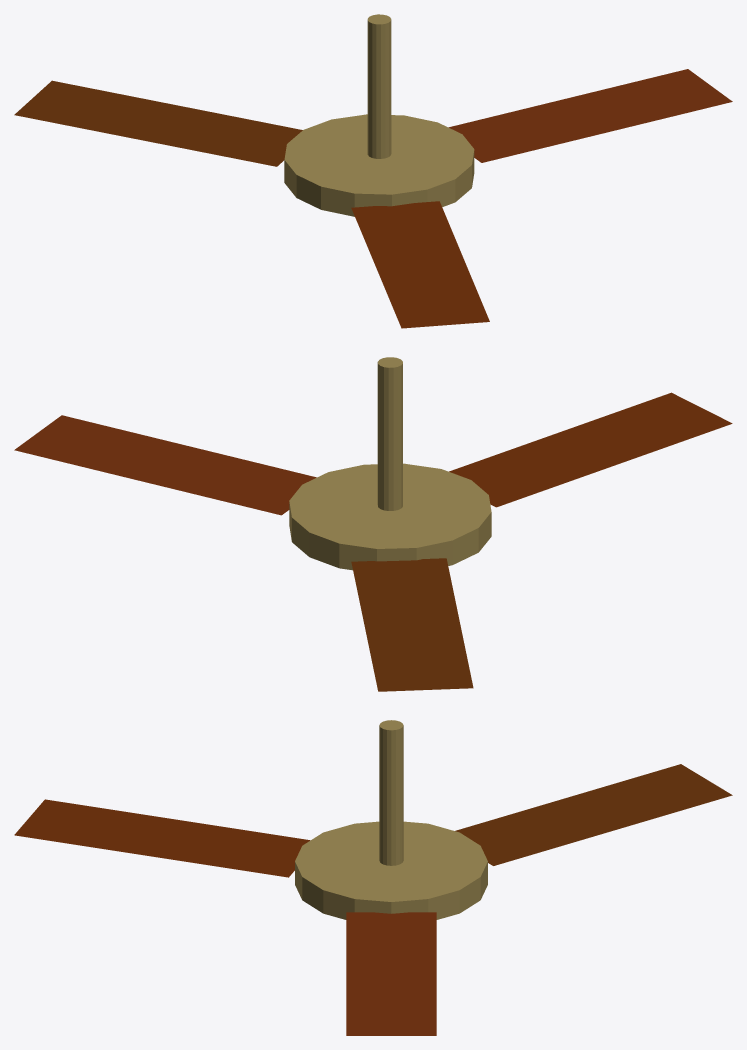
The model's file is fan.obj.
The picture shows the model from 3 angles, top to bottom: view 1: azimuth 30°, elevation 25°; view 2: azimuth 150°, elevation 25°; view 3: azimuth 270°, elevation 25°; orthographic projection. The views are drawn at different scales.
Visible parts, largest first — view 1: Cylinder; view 2: Cylinder; view 3: Cylinder.
Part boxes in pixels (<box>): Cylinder: <box>14,14,732,328</box>; Cylinder: <box>14,357,732,691</box>; Cylinder: <box>14,720,732,1035</box>.
Size of the model in its own units: 6.66 by 1.97 by 7.45.
